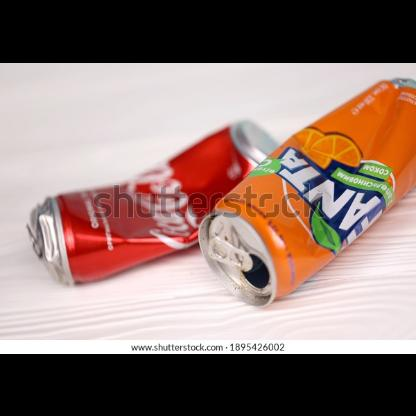Dent_Can: (44, 127, 234, 251), (277, 104, 416, 217)
Lid_Open: (206, 213, 272, 301), (18, 213, 66, 263)
Tin_Can: (190, 63, 416, 310), (24, 110, 288, 300)
